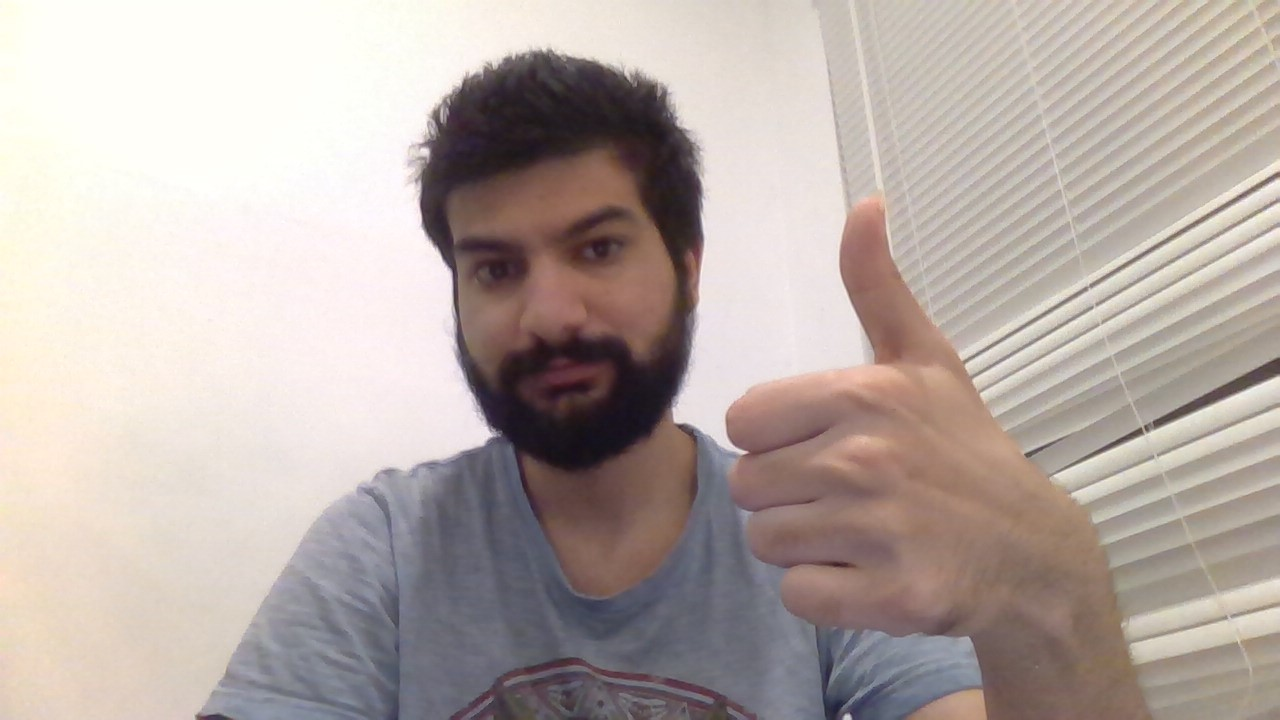up: (721, 185, 1005, 645)
